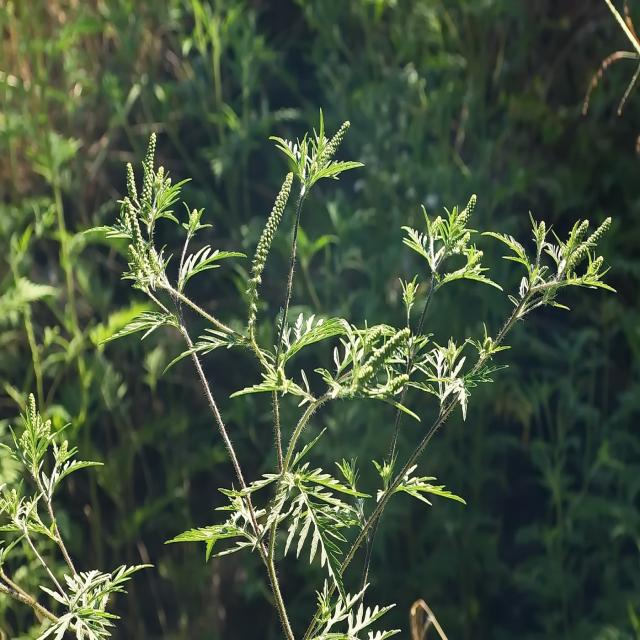ambrosia: (397, 149, 640, 388), (0, 374, 142, 640), (249, 84, 375, 370), (106, 127, 219, 356)
